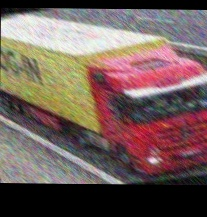truck: (0, 8, 207, 185)
